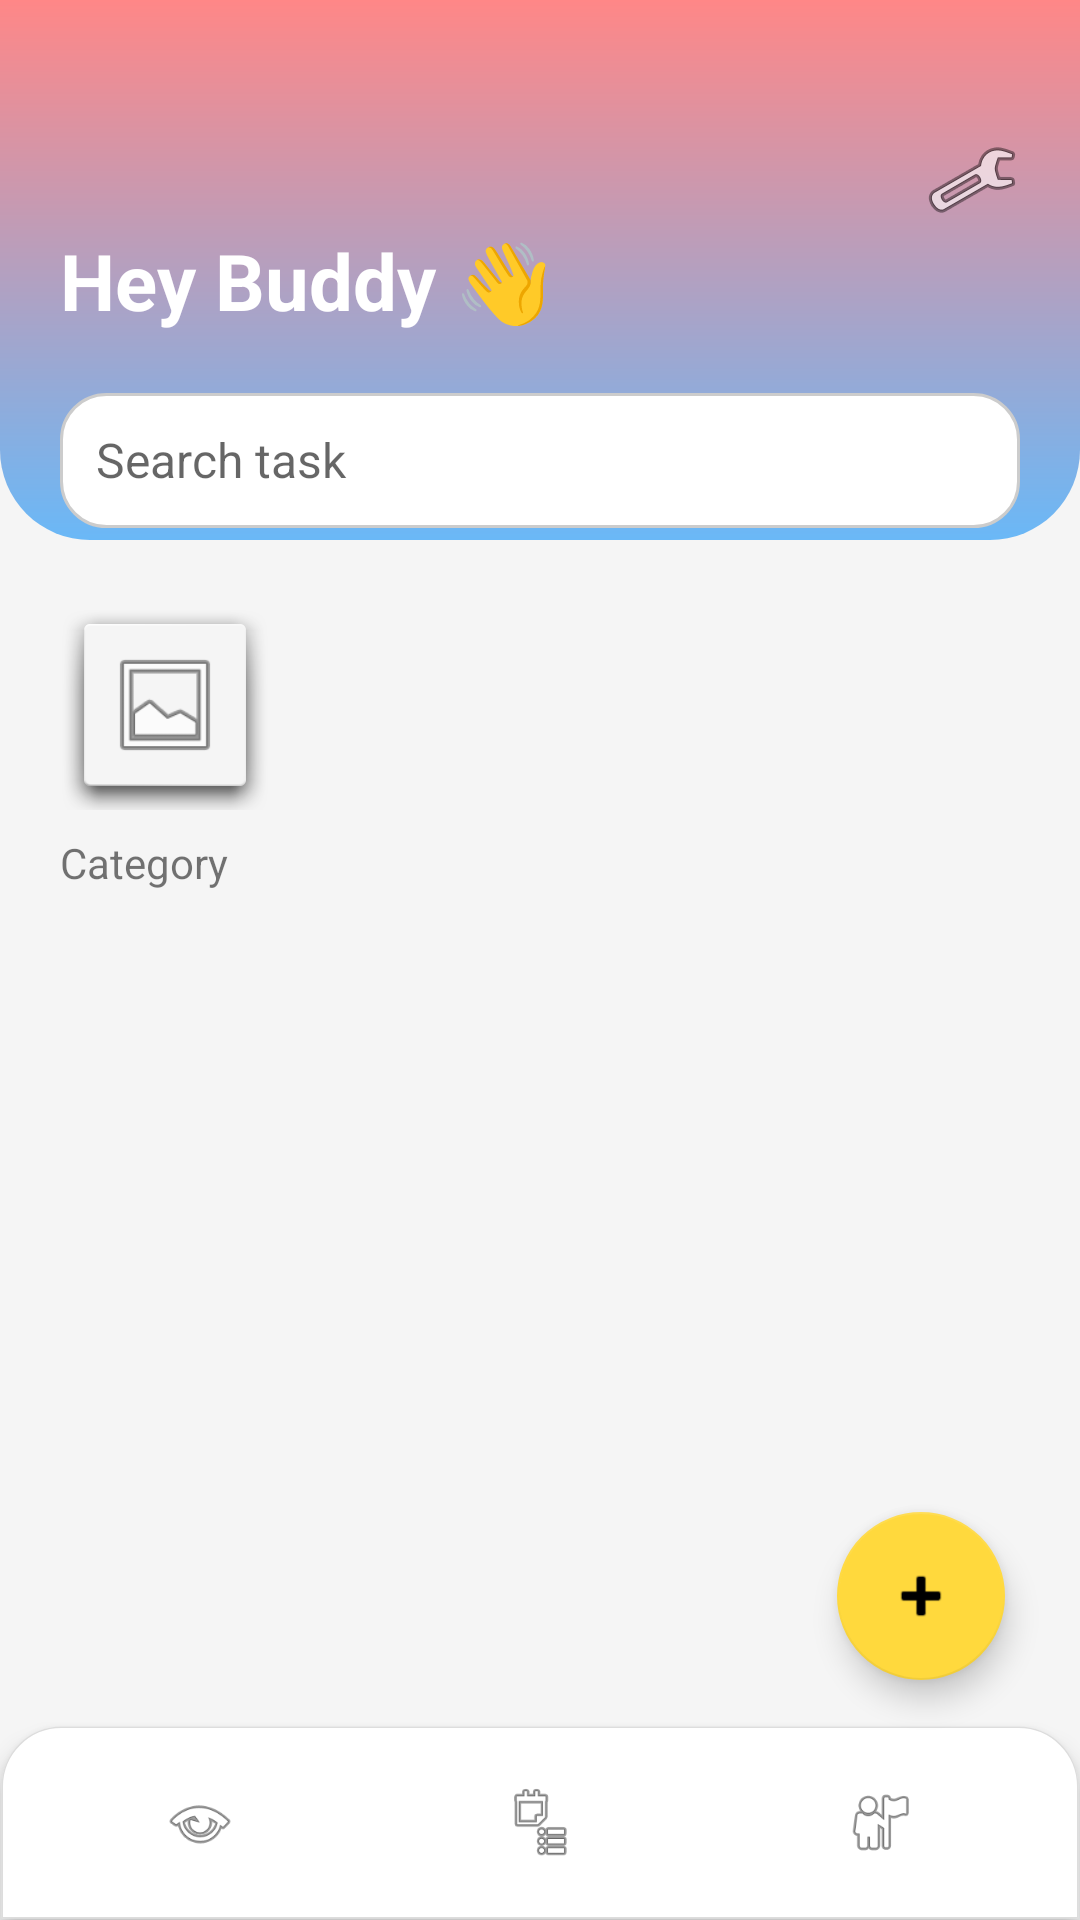

Icons on this 1080w x 1920h Android screen, each with its box as (x1, y1, x2, y2):
add: (837, 1512, 1005, 1680)
agenda: (514, 1789, 567, 1856)
gallery: (72, 620, 258, 806)
manage: (924, 147, 1020, 228)
view: (169, 1805, 231, 1844)
